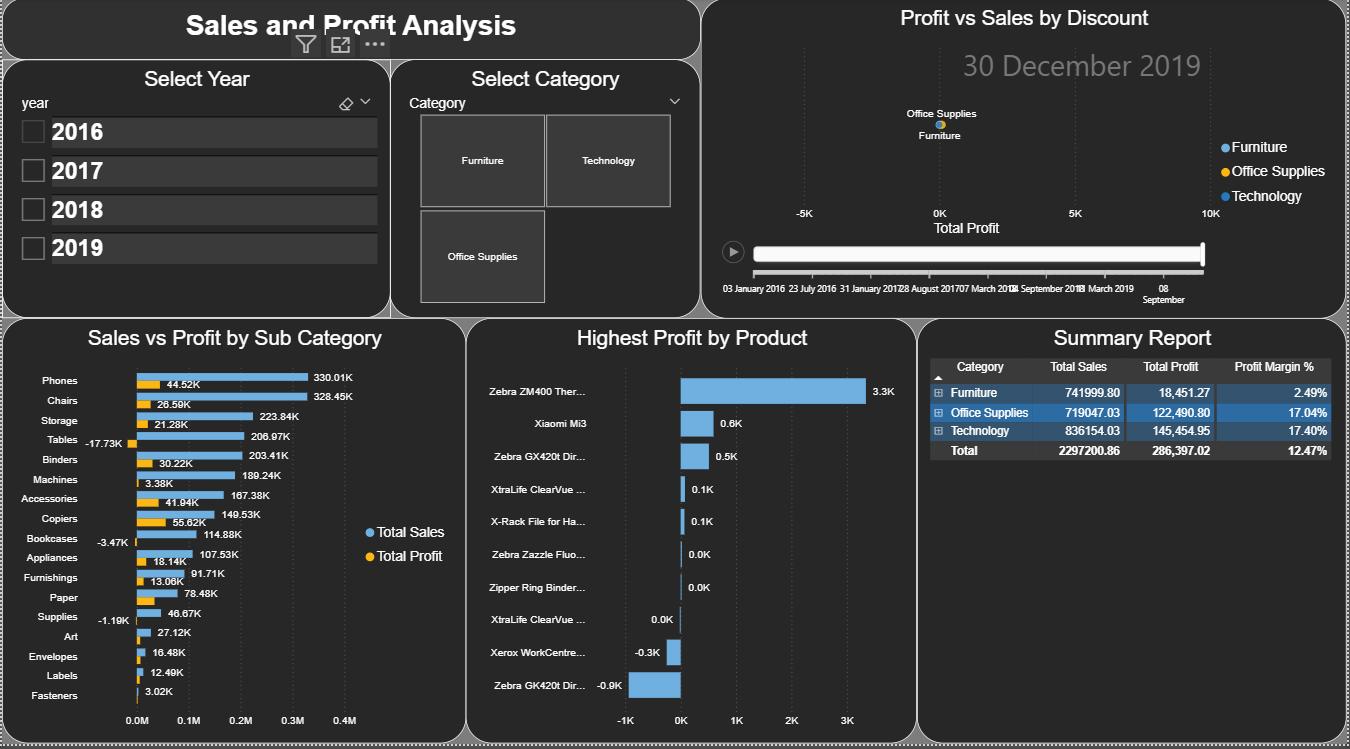

Layout of this report page (visuals, bound fields, positions):
{"tool":"powerbi","page":{"name":"sales & profit analysis","canvas":[1550,860],"ordinal":1},"visuals":[{"type":"textbox","box":[0,0,805.3,70.9],"z":0},{"type":"clusteredBarChart","title":"Sales vs Profit by Sub Category","fields":{"Category":["superstore_db superstore.Sub_Category"],"Y":["superstore_db superstore.Total Sales","superstore_db superstore.Total Profit"]},"box":[0,369.4,534.9,490.6],"z":1000},{"type":"scatterChart","title":"Profit vs Sales by Discount","fields":{"X":["superstore_db superstore.Total Profit"],"Play":["superstore_db superstore.Order_Date.Variation.Date Hierarchy.Year"],"Size":["superstore_db superstore.Total Sales"],"Series":["superstore_db superstore.Category"]},"box":[805.8,0,744.2,369.5],"z":2000},{"type":"pivotTable","title":"Summary Report","fields":{"Rows":["superstore_db superstore.Category","superstore_db superstore.Sub_Category","superstore_db superstore.Region"],"Values":["superstore_db superstore.Total Sales","superstore_db superstore.Total Profit","superstore_db superstore.Profit Margin %"]},"box":[1055,369.4,495,490.6],"z":3000},{"type":"barChart","title":"Highest Profit by Product","fields":{"Category":["superstore_db superstore.Product_Name"],"Y":["superstore_db superstore.Total Profit"]},"box":[534.9,369.4,520.1,490.6],"z":4000},{"type":"slicer","title":"Select Category","fields":{"Values":["superstore_db superstore.Category"]},"box":[447,71,358,298],"z":5000},{"type":"slicer","title":"Select Year","fields":{"Values":["DateTable.year"]},"box":[0,70.9,447.7,298.5],"z":6000}]}

Visuals, with their boxes in screenshot pixels (x1, y1, x2, y2), scaled from the page's 1550x860 canvas onto the 1350x749 screenshot:
textbox: bbox=[0, 0, 701, 62]
"Sales vs Profit by Sub Category" clusteredBarChart: bbox=[0, 322, 466, 748]
"Profit vs Sales by Discount" scatterChart: bbox=[702, 0, 1349, 322]
"Summary Report" pivotTable: bbox=[919, 322, 1349, 748]
"Highest Profit by Product" barChart: bbox=[466, 322, 919, 748]
"Select Category" slicer: bbox=[389, 62, 701, 321]
"Select Year" slicer: bbox=[0, 62, 390, 322]
